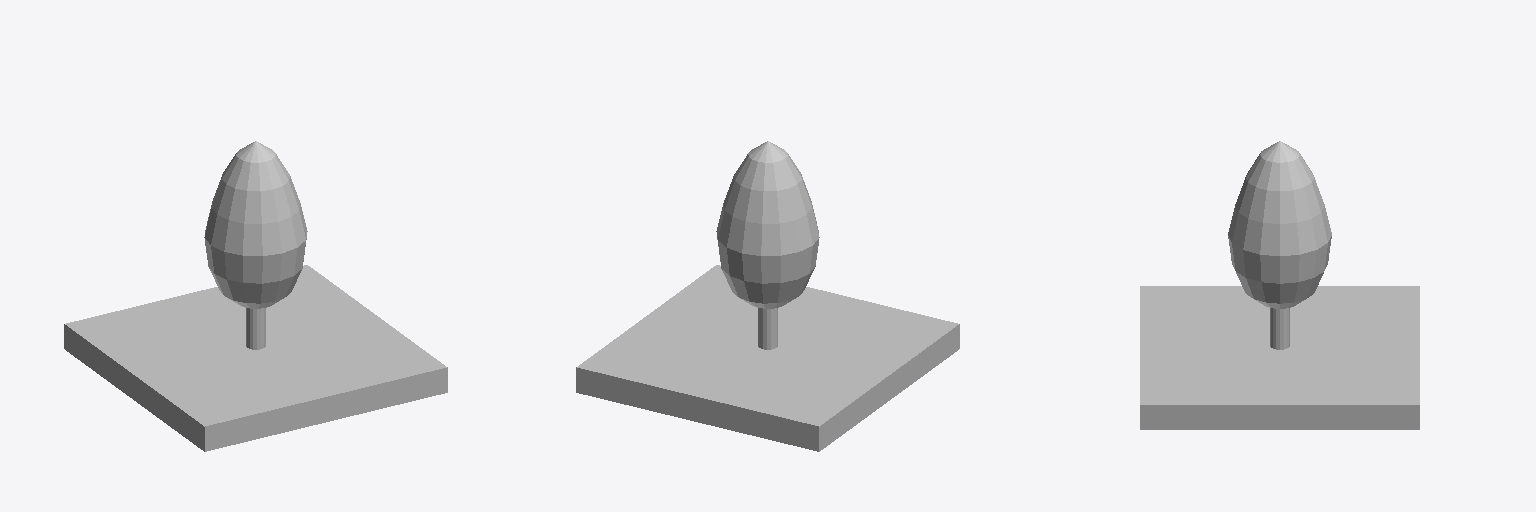
File: Tree.obj
3 renders of one model, left to right at view 1: azimuth 30°, elevation 25°; view 2: azimuth 150°, elevation 25°; view 3: azimuth 270°, elevation 25°, orthographic.
Visible parts, largest first — view 1: cube1; view 2: cube1; view 3: cube1.
Part boxes in pixels (left/top/right/bottom): cube1: left=64, top=141, right=447, bottom=451; cube1: left=576, top=141, right=959, bottom=451; cube1: left=1140, top=141, right=1419, bottom=429.
Bounding box in the file's own units: 1 × 0.9052 × 1.